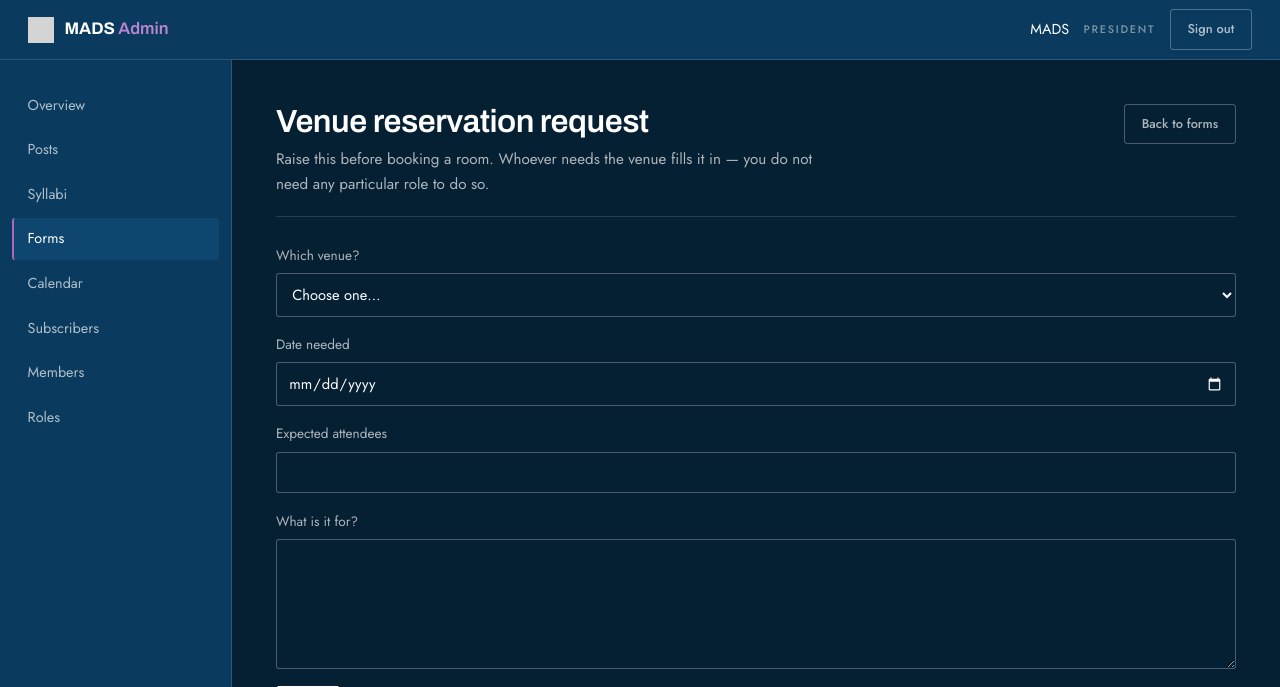
FormFill › lets the president fill one in too
Step 1. Select "Hatem Hall seminar room" in the dropdown labelled "Which venue?" → [756, 295], box [276,273,1236,317]
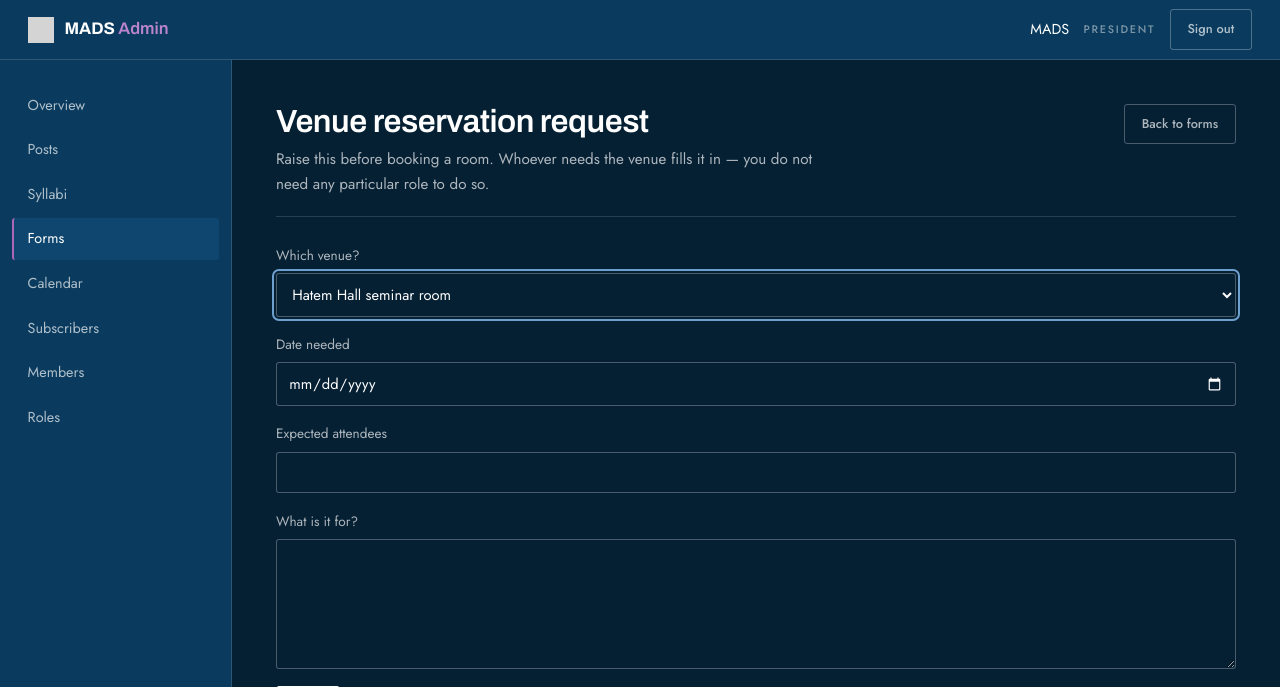
Step 2. Type "2026-10-02" into the date field labelled "Date needed" → [756, 384], box [276,362,1236,406]
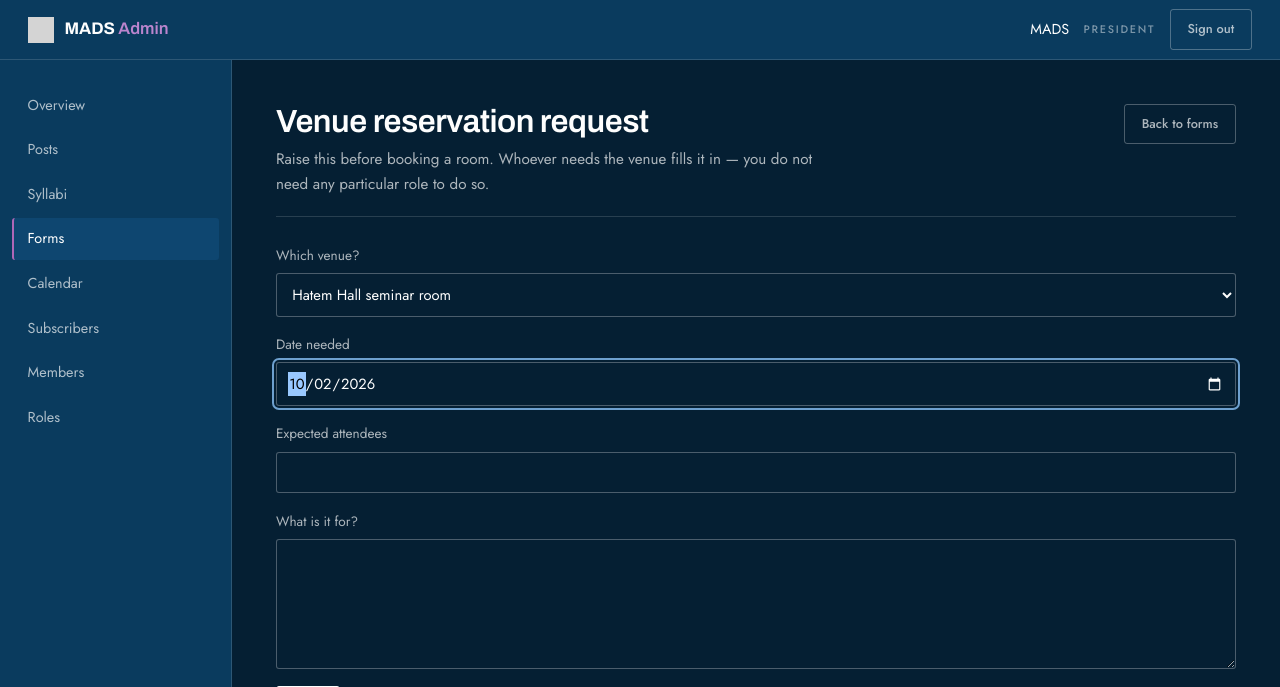
Step 3. Type "30" into the number field labelled "Expected attendees" → [756, 472], box [276,452,1236,493]
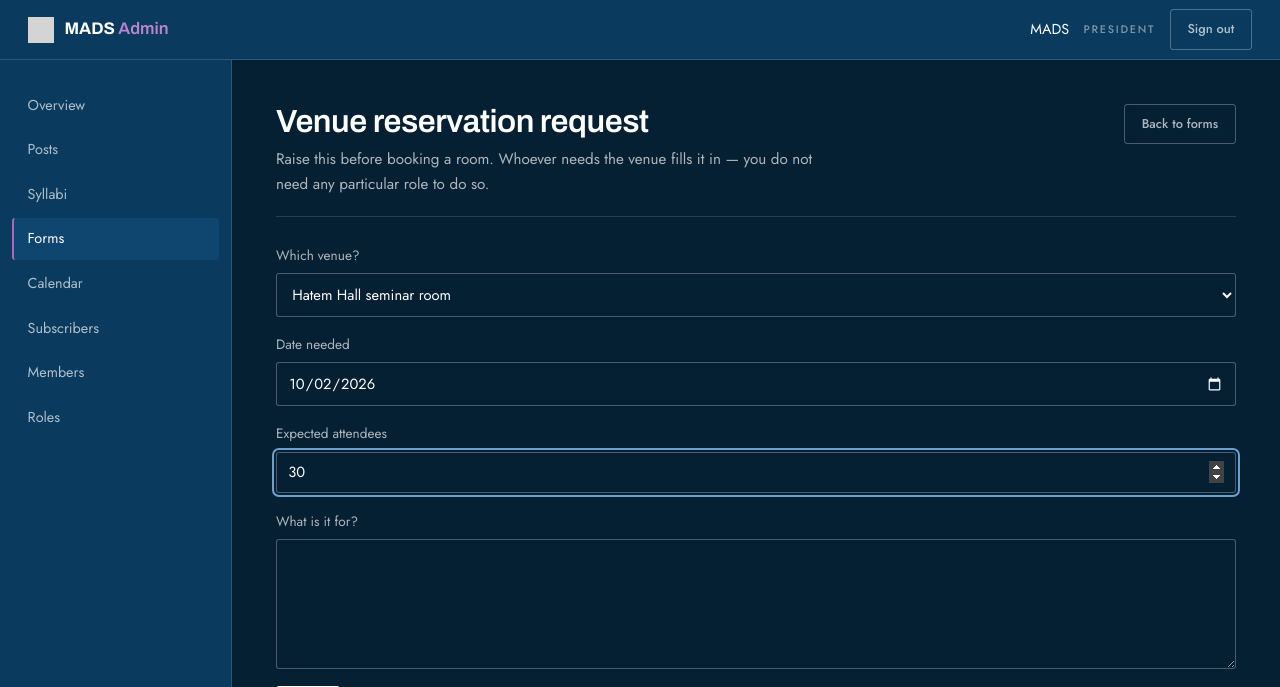
Step 4. Type "Study group kickoff." into the text box labelled "What is it for?" → [756, 604], box [276,539,1236,668]
(page scrolled)
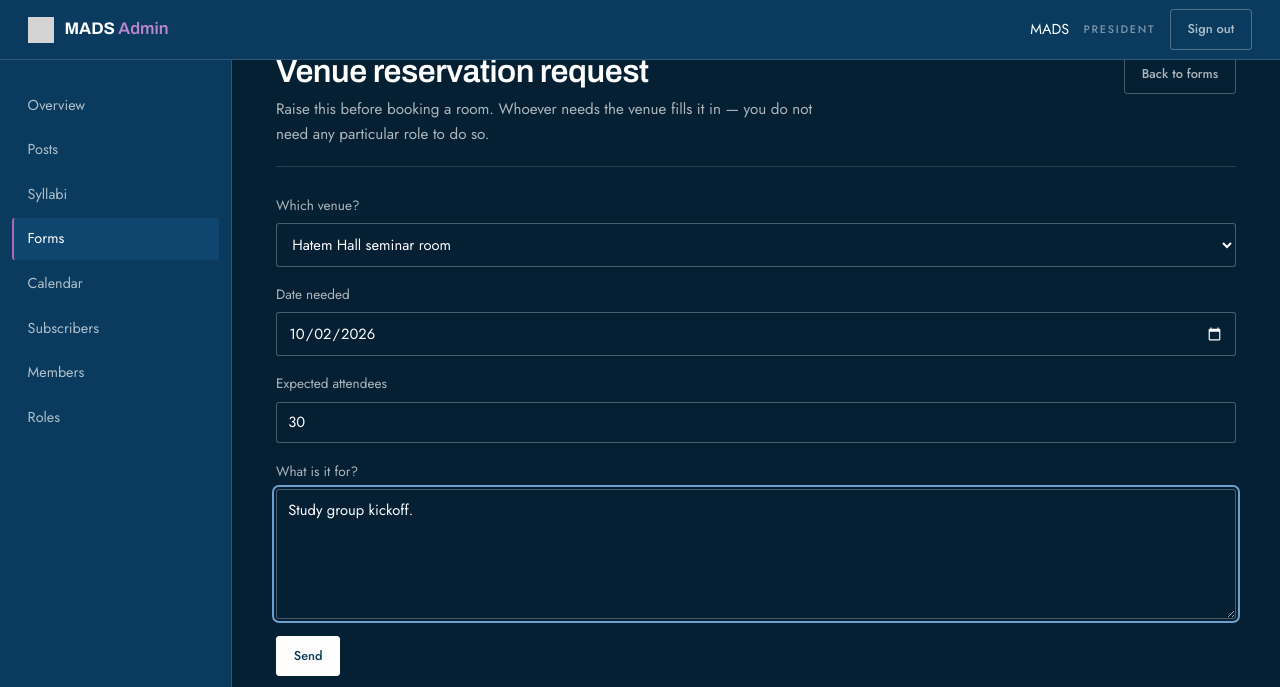
Step 5. Click the button "Send" → [308, 656], box [276,636,340,676]
(page scrolled)
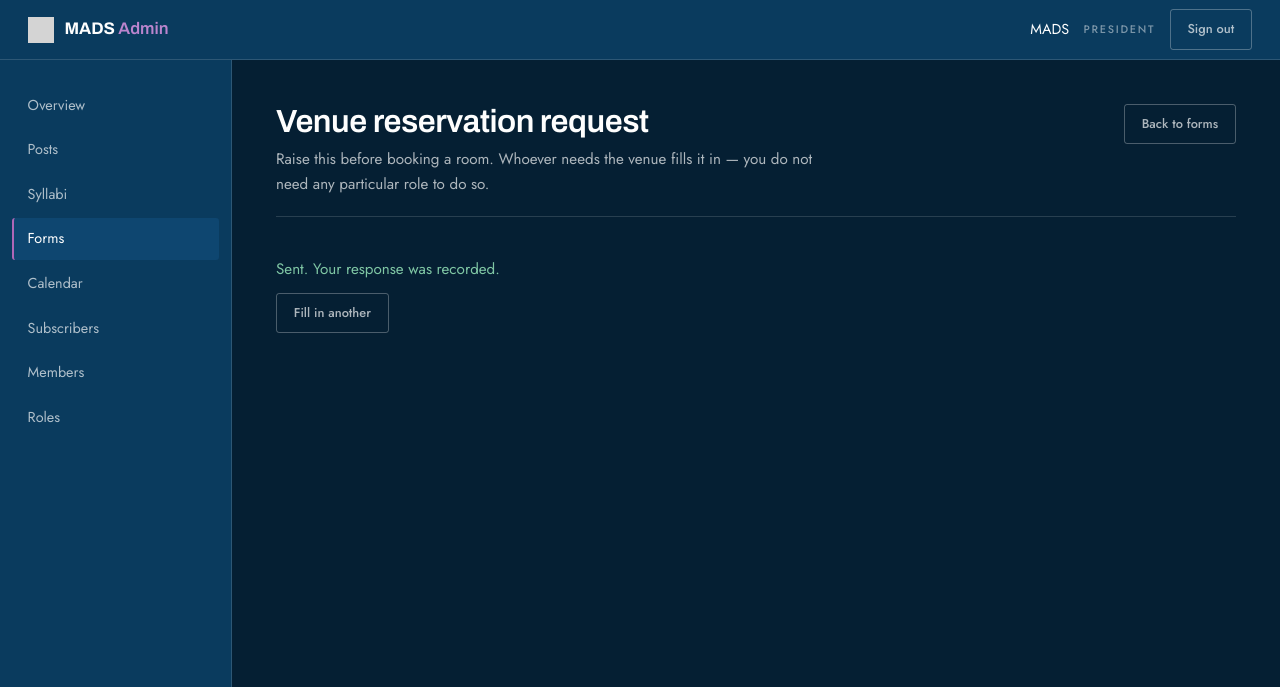
Check: the message "Sent. Your response was recorded." is shown, box [276,258,500,280]
